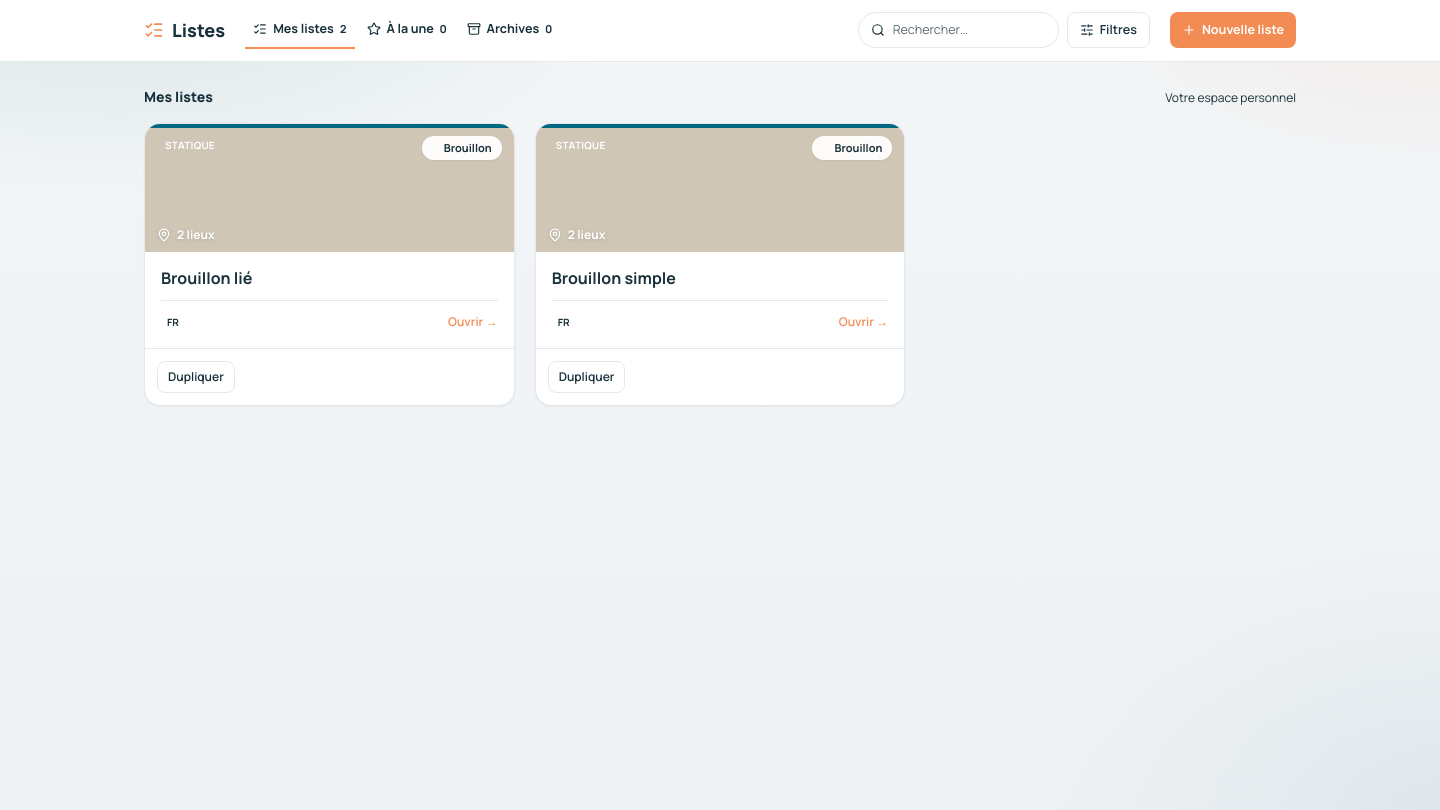
it: ListsManageView — filtres indépendants › le statut brouillon et le lien actif se combinent sans s’appuyer sur le statut shared
Expected: the heading "Brouillon lié" is shown, [161, 267, 252, 289]
Click the heading "Filtres" at (1108, 30), box [1067, 12, 1150, 48]
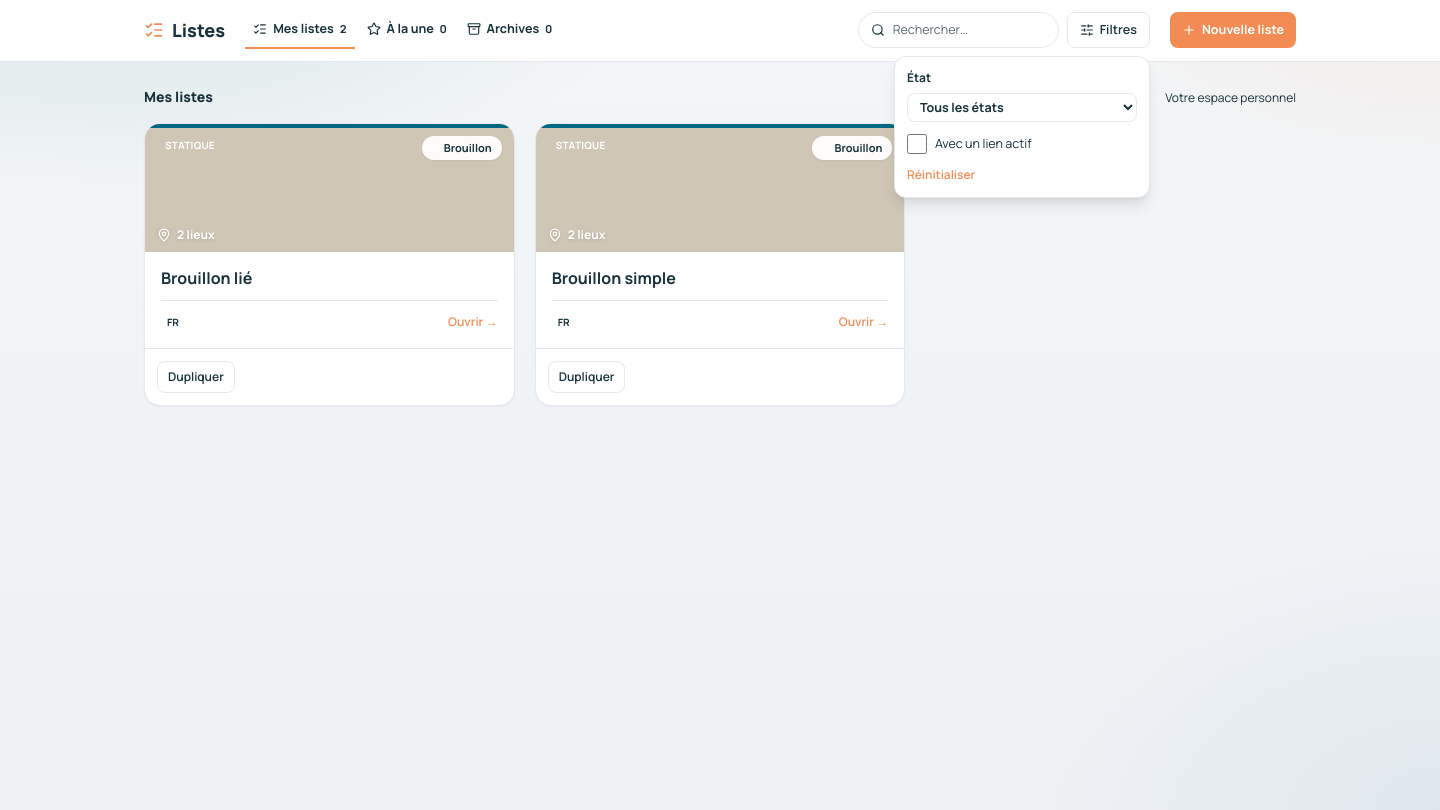
Select "Brouillons" in the dropdown labelled "État" at (1022, 108), box [907, 93, 1137, 122]
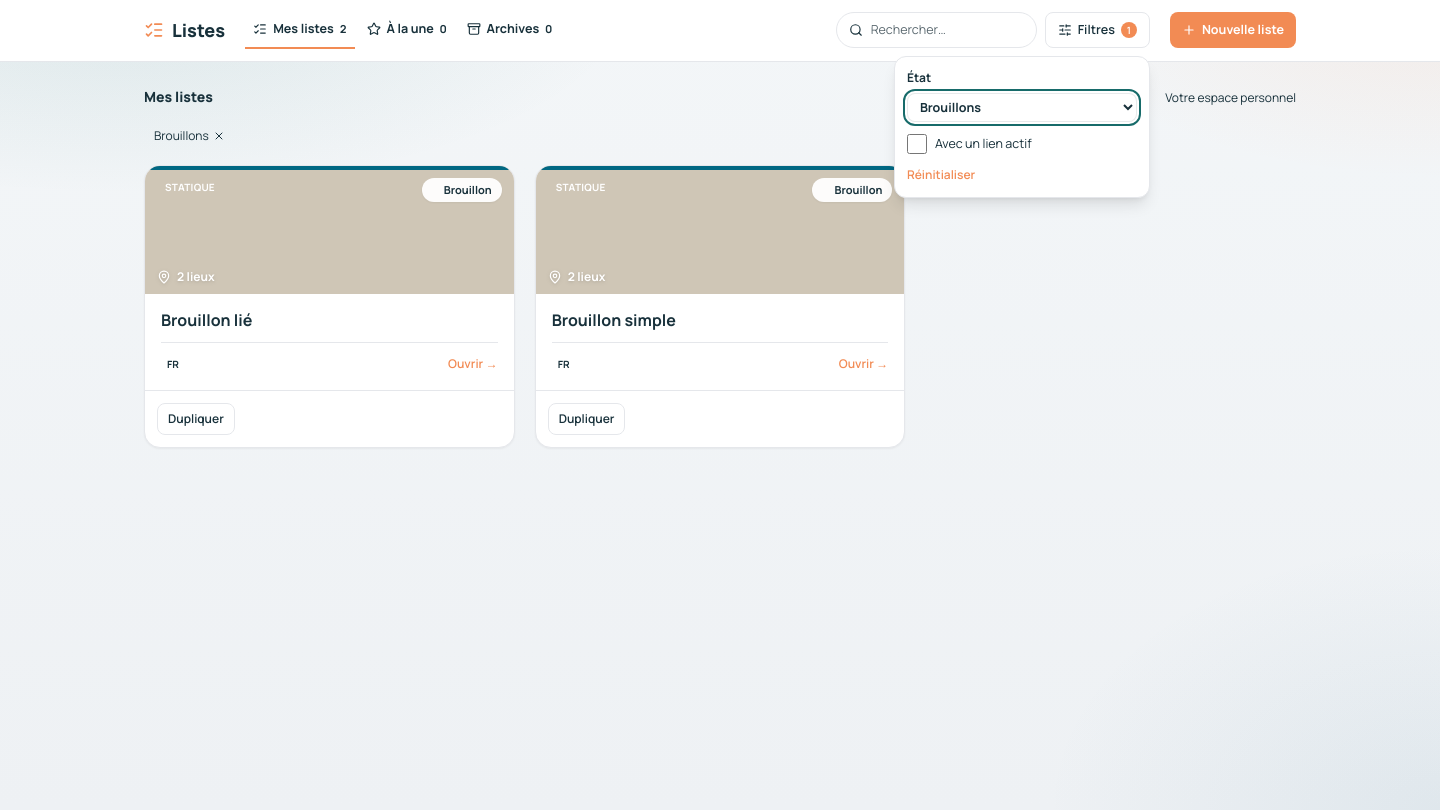
Click the checkbox labelled "Avec un lien actif" at (917, 144), box [907, 134, 927, 154]
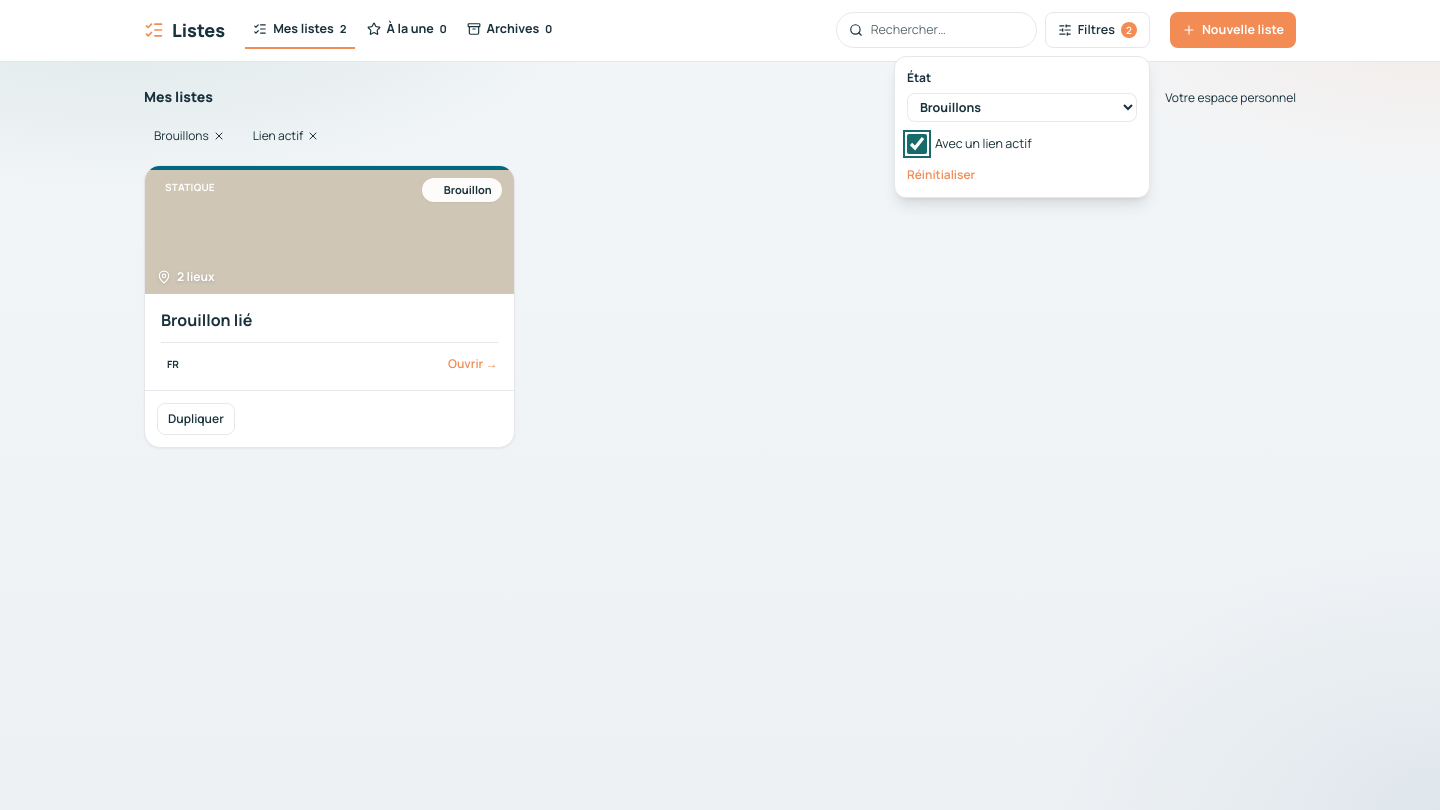
Expected: the heading "Brouillon lié" is shown, [161, 309, 252, 331]
Expected: the link "Brouillon simple" is gone
